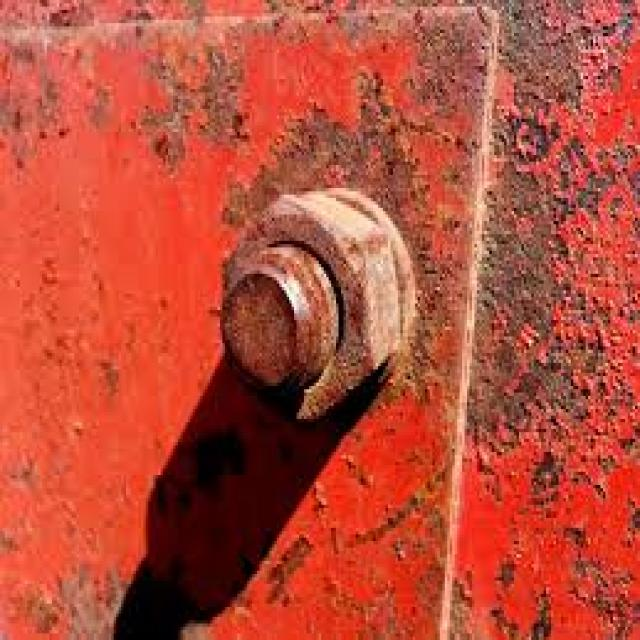Rusty bolt: (221, 185, 401, 416)
